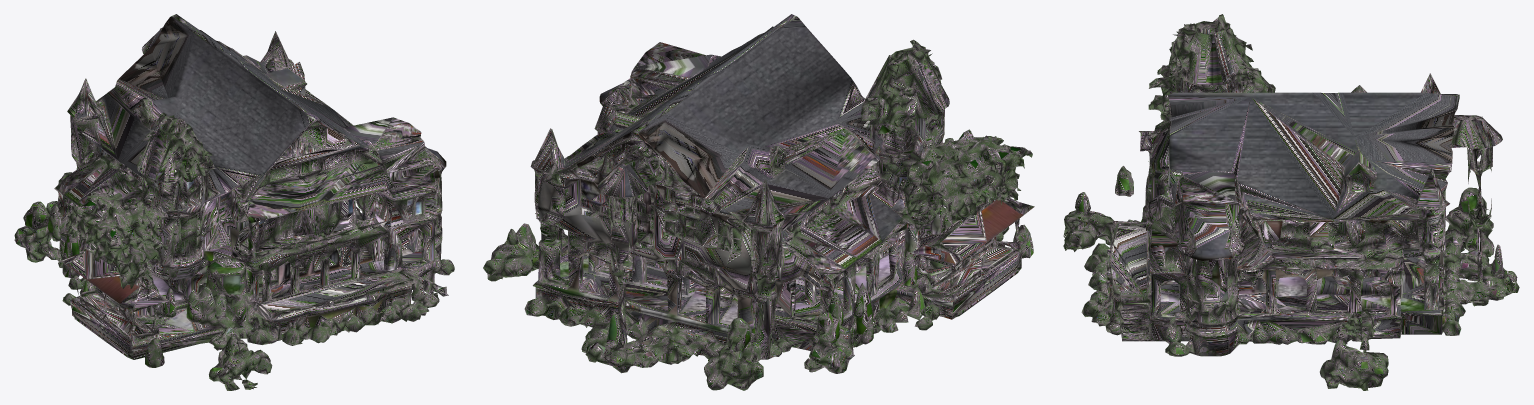
Rendered from mx_dr_mansion.glb.
The picture shows the model from 3 angles, left to right: view 1: azimuth 30°, elevation 25°; view 2: azimuth 150°, elevation 25°; view 3: azimuth 270°, elevation 25°; orthographic projection. The views are drawn at different scales.
Parts seen in each view (by area): view 1: Mesh_0; view 2: Mesh_0; view 3: Mesh_0.
Part boxes in pixels (<box>): Mesh_0: <box>14,14,454,390</box>; Mesh_0: <box>483,14,1034,390</box>; Mesh_0: <box>1063,14,1519,390</box>.
Size of the model in its own units: 1.89 by 1.04 by 1.87.
Materials: 1 (1 with a texture image).
